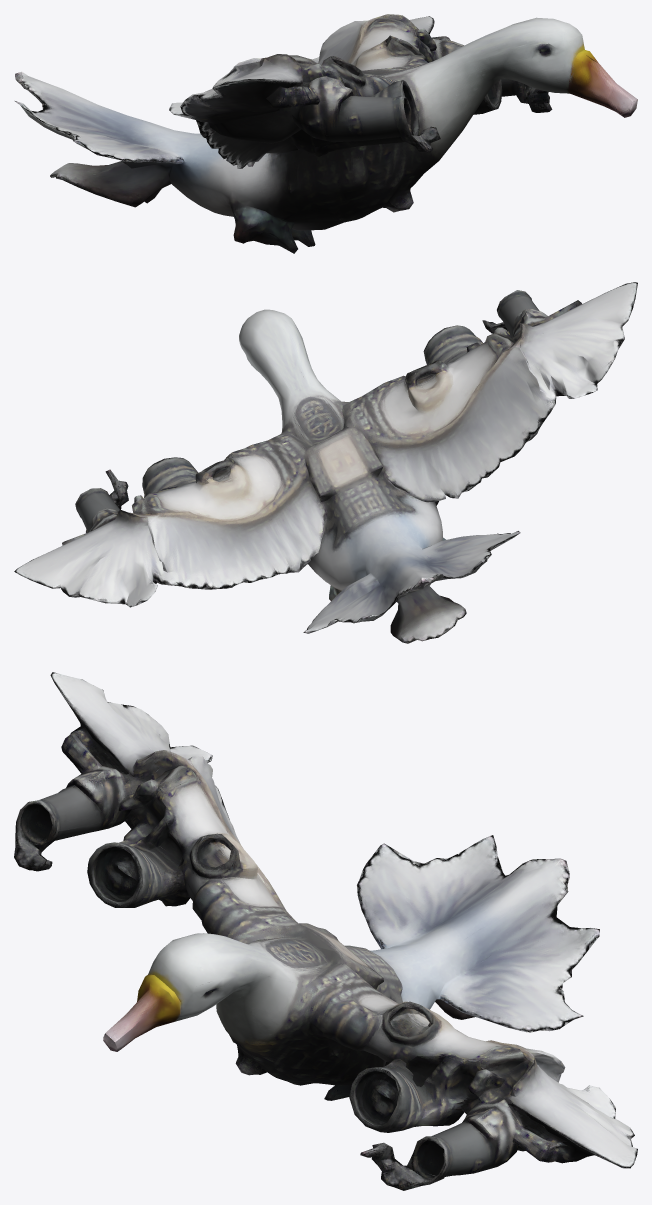
Rendered from Bombombini_Gusini.fbx.
3 renders of one model, top to bottom at view 1: azimuth 30°, elevation 25°; view 2: azimuth 150°, elevation 25°; view 3: azimuth 270°, elevation 25°, orthographic. The views are drawn at different scales.
Parts seen in each view (by area): view 1: GeometryNode_6; view 2: GeometryNode_6; view 3: GeometryNode_6.
Part boxes in pixels (left/top/right/bottom): GeometryNode_6: left=15, top=14, right=637, bottom=253; GeometryNode_6: left=14, top=282, right=637, bottom=643; GeometryNode_6: left=14, top=672, right=637, bottom=1190.
Size of the model in its own units: 0.7156 by 0.4261 by 0.7305.
Materials: 1 (1 with a texture image).
